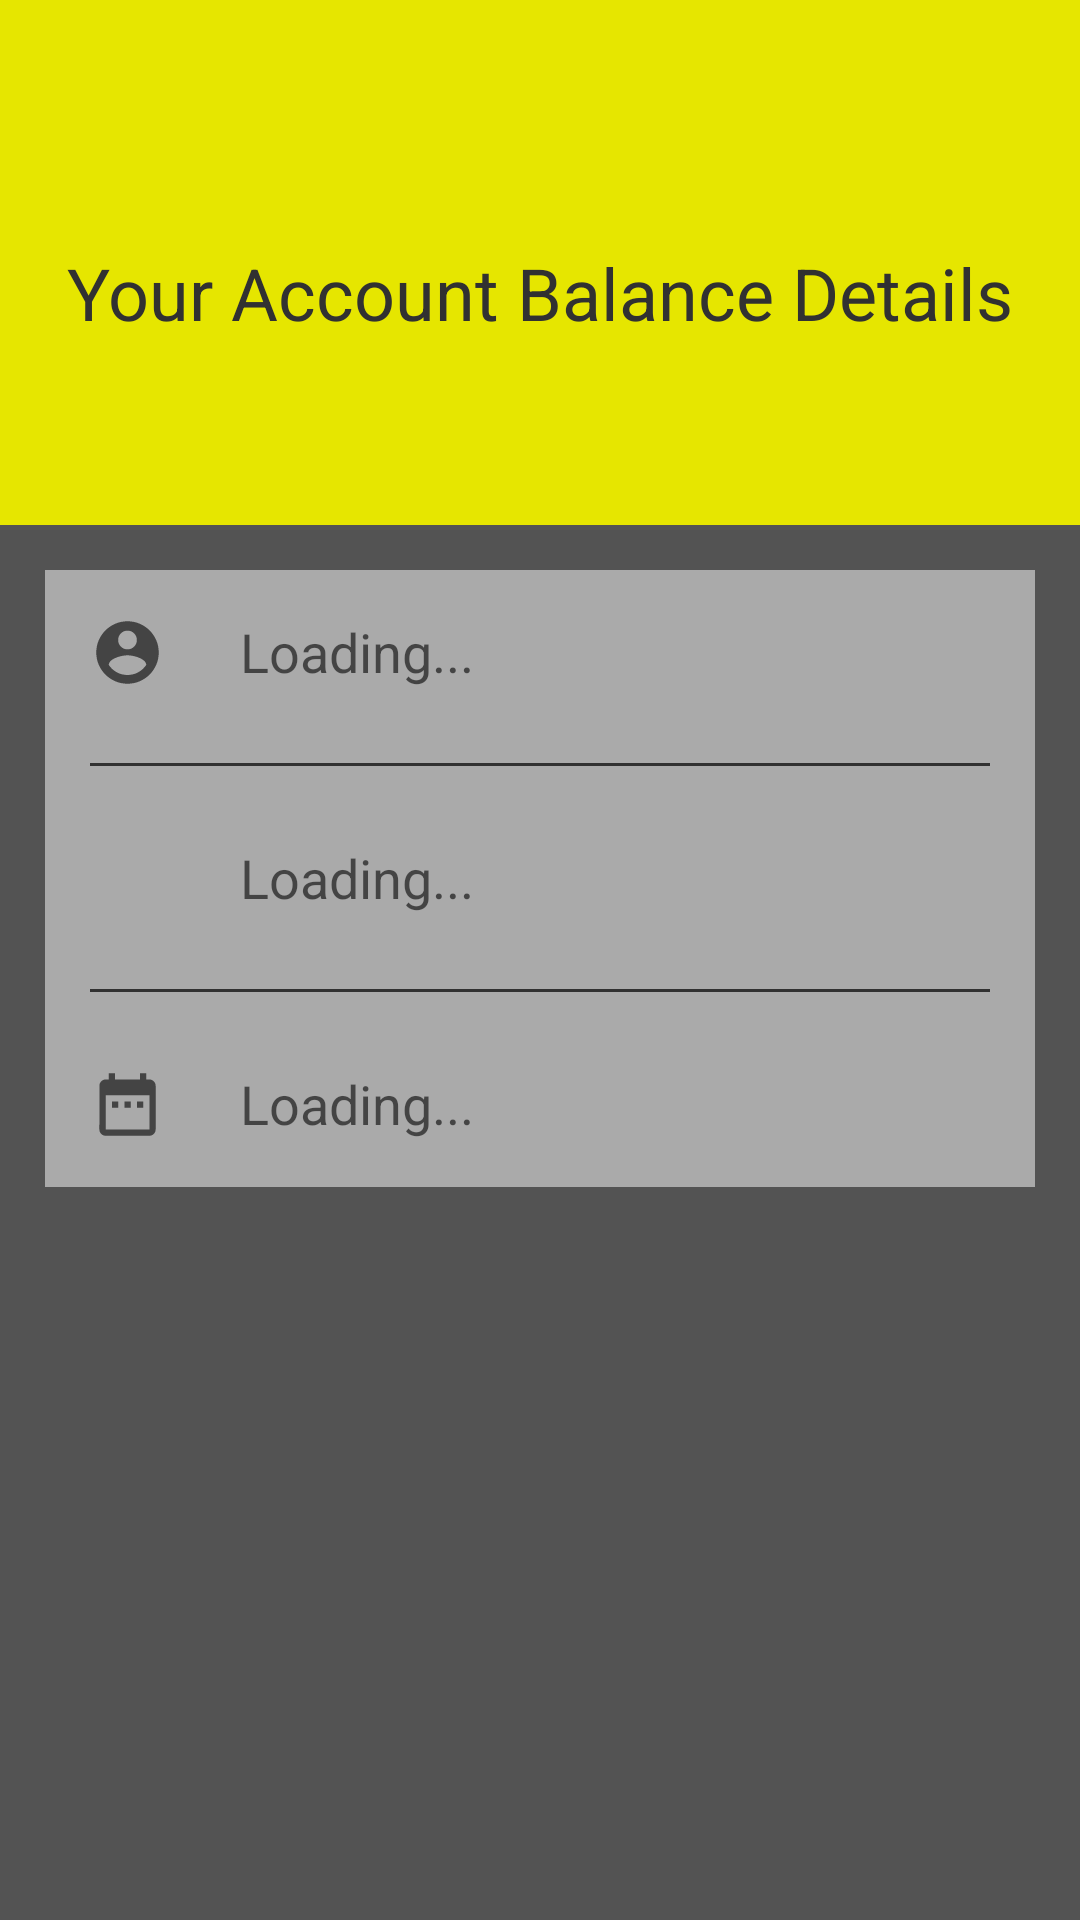

Screen size 1080x1920. Icon name, then its box in pixels as (x1, y1, x2, y2):
Date of Birth(dd/mm/yyyy)*: (99, 1073, 156, 1136)
user: (96, 621, 159, 684)
